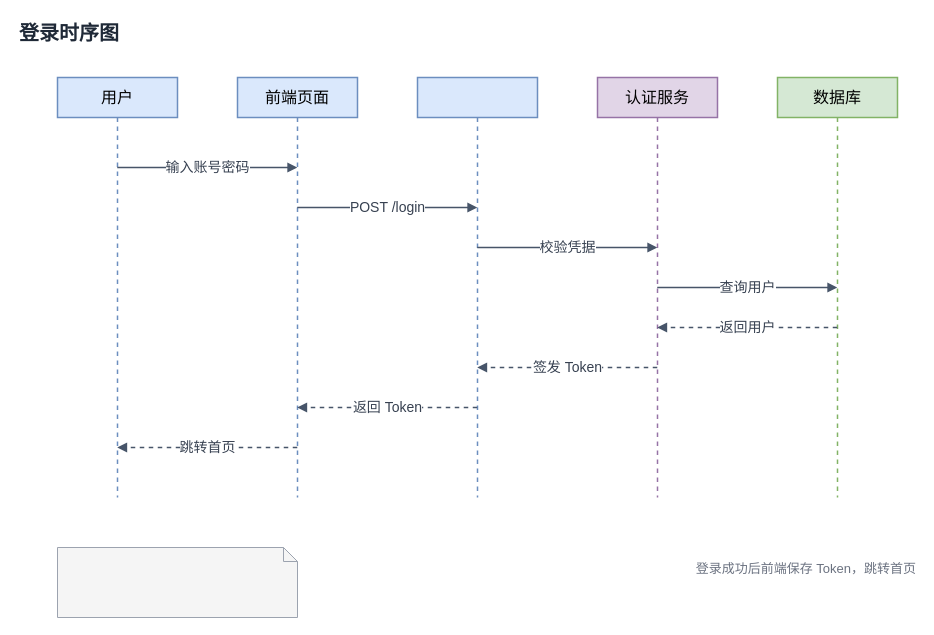
Image size: 934x635. Some labels were removed from this diagram. The shapes that lost their labels are listed below. From the top down, each one's box as (x1, y1, x2, y2) in pixels, then its label:
(416, 76, 538, 498): API 服务
(56, 546, 298, 618): 实线箭头 = 请求消息 虚线箭头 = 响应消息
